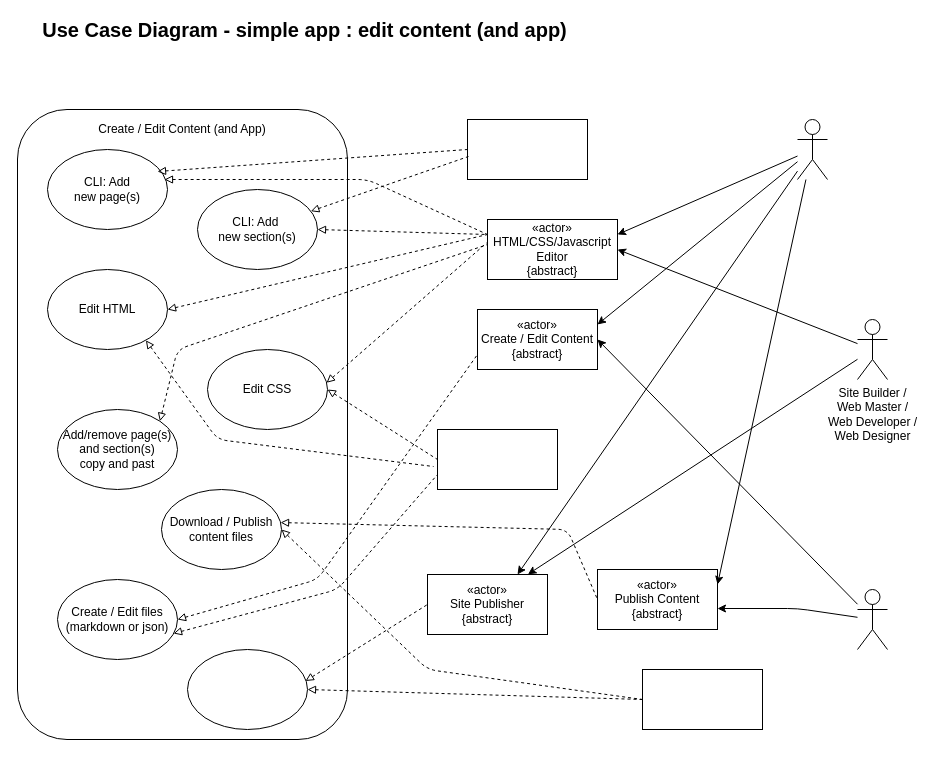
Some shapes in this 934 by 757 pixel diagram are drawn without their labels. The shapes that lost their labels are listed below. From the top down, each one's centre as x and y in pixels, then its label:
At (527,149): "«actor» simple-app-cli".
At (812,149): "DIYer".
At (497,459): "«actor» Text Editor".
At (872,619): "Content Editor".
At (247,689): "Re-Publish content or simple-app".
At (702,699): "«actor» Hosting".
